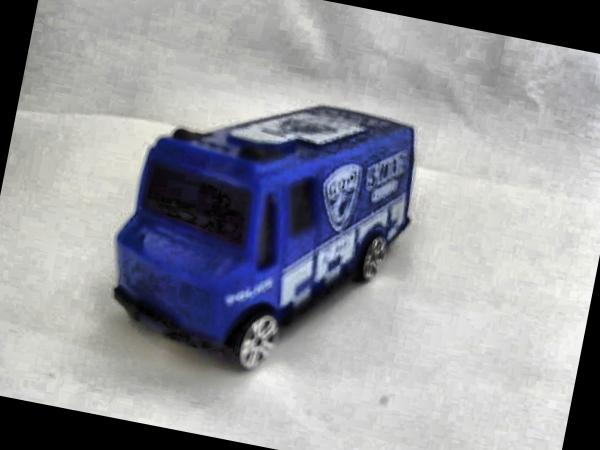police car: (90, 64, 428, 401)
